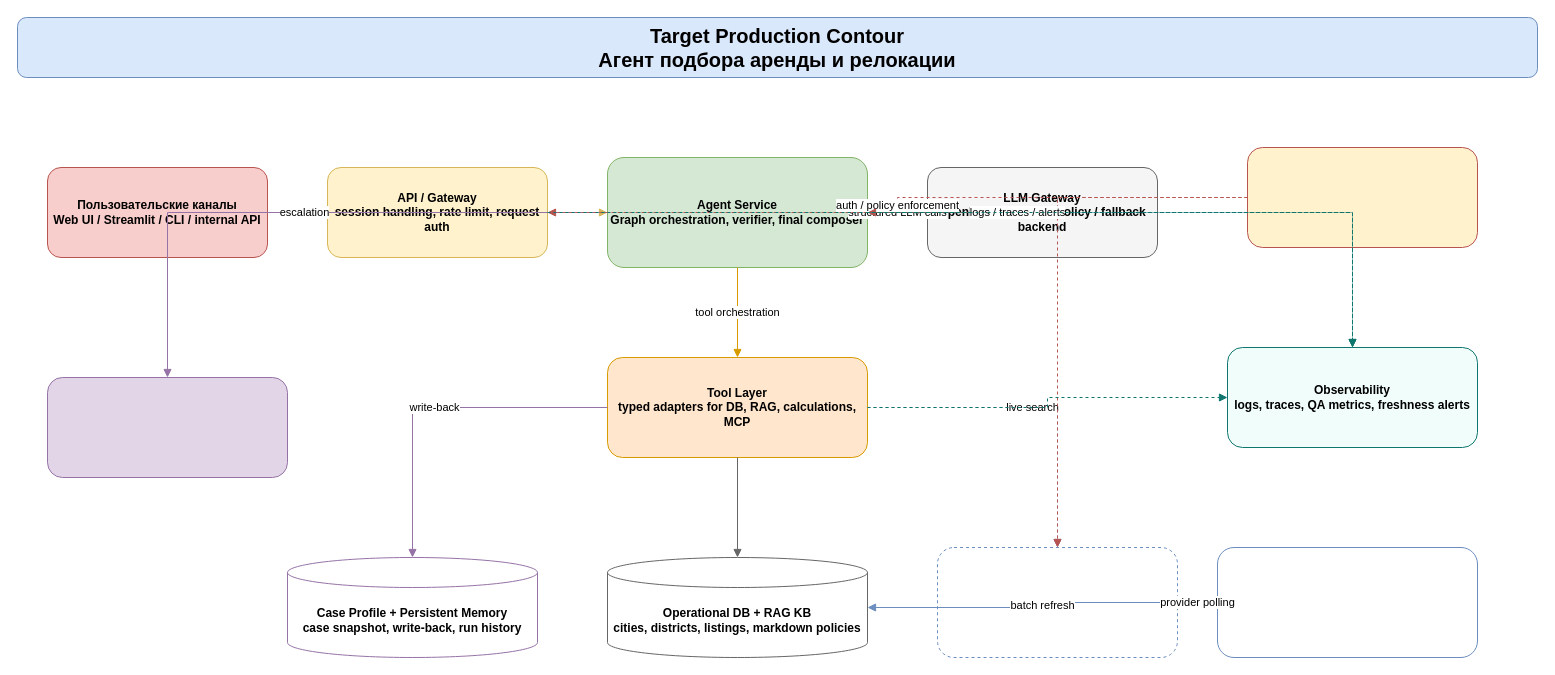
This 1555x675 diagram has some shape labels left out. Each missing label, with the centre of its shape:
"Auth + Secrets SSO, service tokens, secret storage, RBAC" belongs at point (1362, 197).
"External MCP Providers Cian / market APIs / hosted actor tools" belongs at point (1057, 602).
"Human Ops / Escalation Queue document review, legal-sensitive handoff" belongs at point (167, 427).
"Refresh Jobs scrapers, import, normalization, freshness checks" belongs at point (1347, 602).
